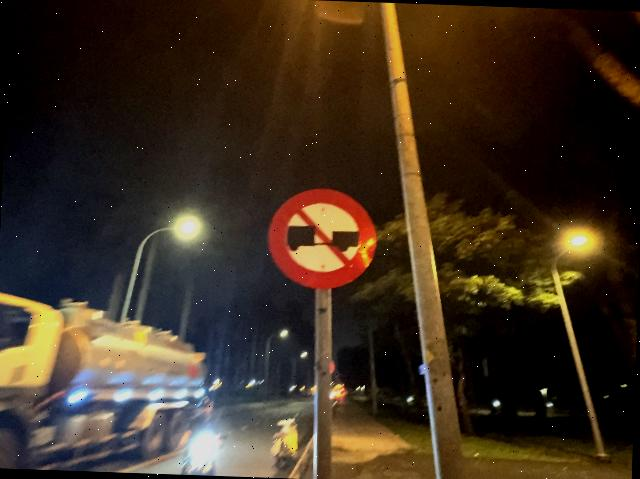cam-xe-somi-romooc: (266, 187, 378, 291)
